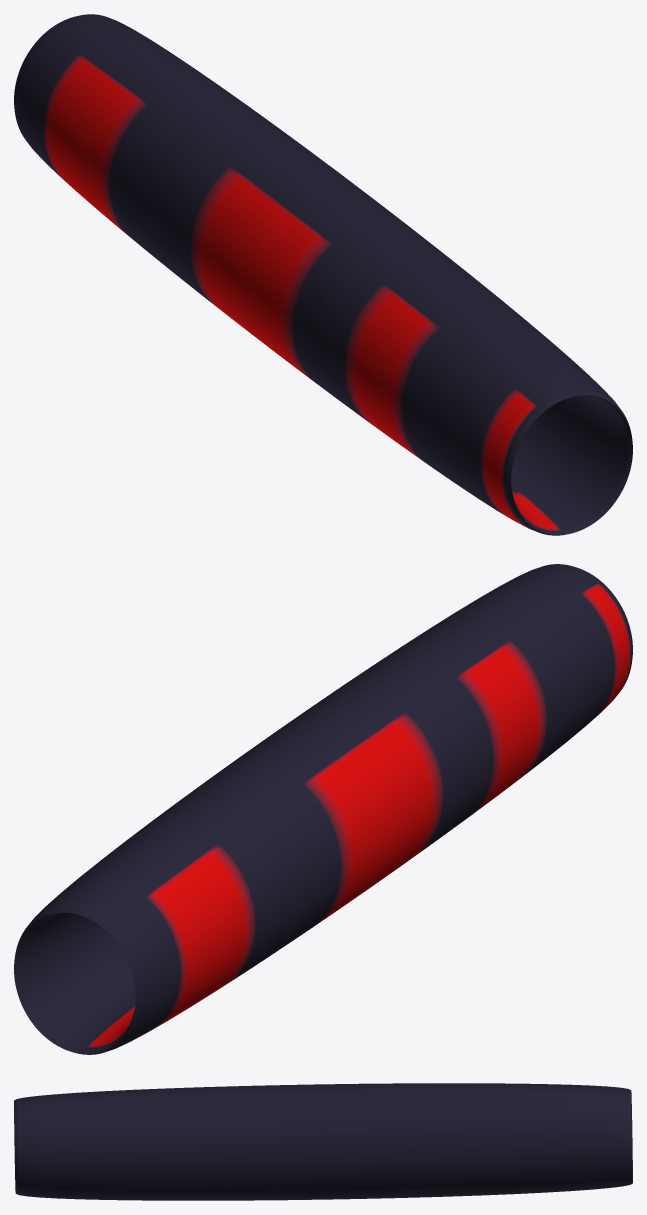
File: tunnel.obj
3 renders of one model, top to bottom at view 1: azimuth 30°, elevation 25°; view 2: azimuth 150°, elevation 25°; view 3: azimuth 270°, elevation 25°, orthographic. The views are drawn at different scales.
Parts seen in each view (by area): view 1: トーラス; view 2: トーラス; view 3: トーラス.
Boxes of the visible parts, bbox=[...] form: トーラス: bbox=[14, 14, 632, 535]; トーラス: bbox=[14, 564, 632, 1054]; トーラス: bbox=[14, 1083, 632, 1200].
Size of the model in its own units: 19.19 by 21.2 by 110.
1 material, 1 textured.
